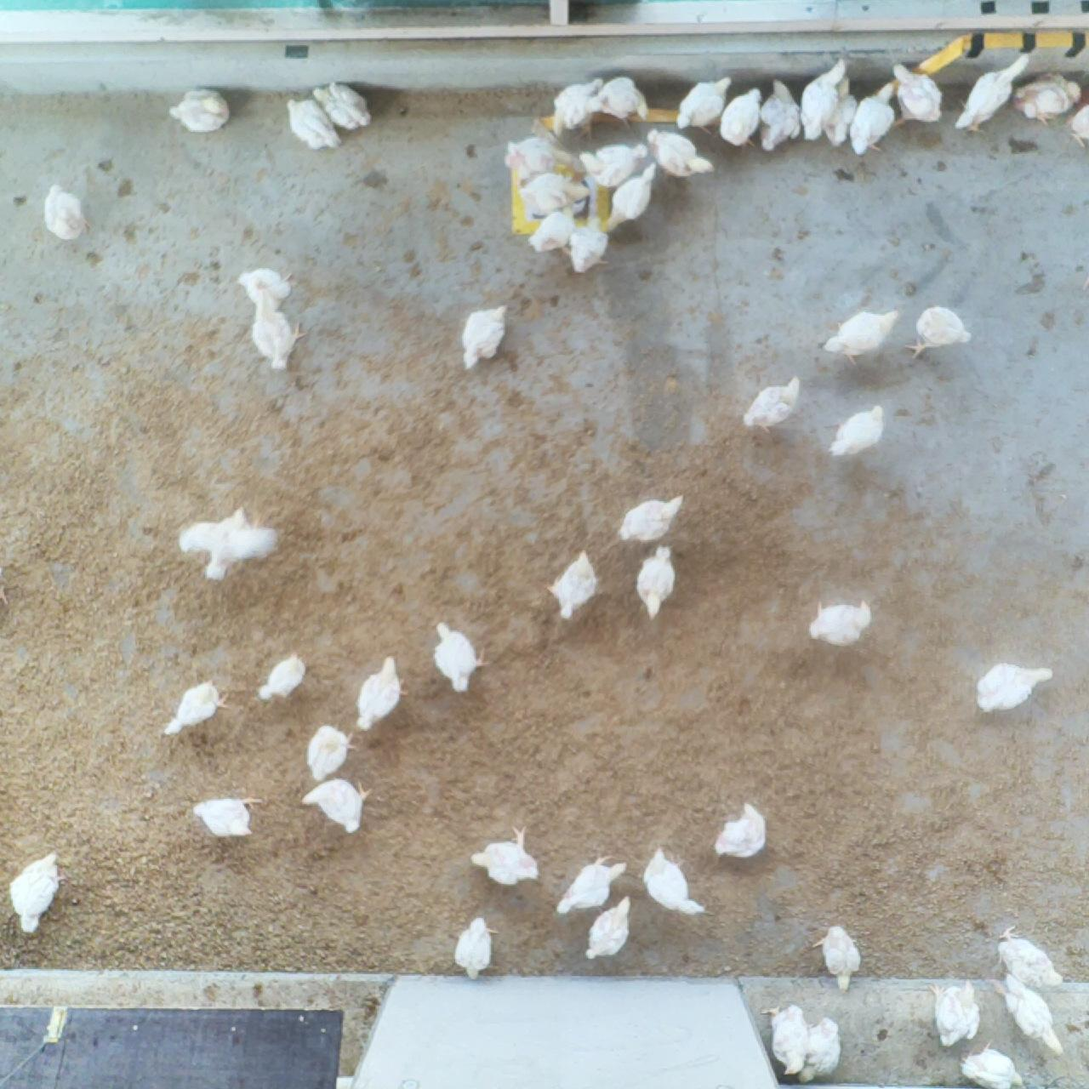chicken: (177, 507, 281, 581), (958, 54, 1035, 140), (989, 974, 1066, 1052), (994, 921, 1063, 993), (640, 849, 705, 920), (9, 852, 66, 932), (815, 311, 901, 364), (466, 827, 539, 889), (886, 59, 948, 130), (554, 855, 625, 916), (425, 624, 487, 693), (976, 662, 1055, 715), (298, 778, 371, 834), (245, 305, 306, 371), (907, 305, 974, 363), (579, 141, 655, 192), (850, 77, 899, 156), (649, 125, 714, 184), (761, 1004, 812, 1079), (741, 373, 802, 435), (545, 552, 601, 619), (164, 681, 225, 741), (825, 405, 895, 457), (927, 979, 980, 1046), (459, 303, 511, 371), (954, 1042, 1027, 1089), (1016, 74, 1086, 122), (816, 922, 866, 989), (801, 59, 842, 140), (618, 496, 683, 547), (359, 659, 404, 732), (807, 600, 875, 648), (503, 131, 575, 176), (609, 159, 655, 229), (757, 81, 801, 154), (674, 79, 730, 135), (302, 724, 357, 781), (586, 898, 635, 961), (191, 795, 259, 840), (162, 89, 231, 133), (453, 919, 503, 979), (717, 804, 767, 864), (553, 80, 604, 136), (284, 101, 339, 150), (594, 77, 652, 123), (636, 548, 672, 622), (524, 174, 590, 214), (804, 1016, 842, 1081), (43, 185, 86, 242), (313, 85, 372, 126), (726, 85, 761, 153), (258, 650, 306, 698), (235, 271, 294, 308), (571, 218, 609, 275), (829, 71, 858, 145), (529, 216, 576, 248), (1073, 105, 1089, 147)
